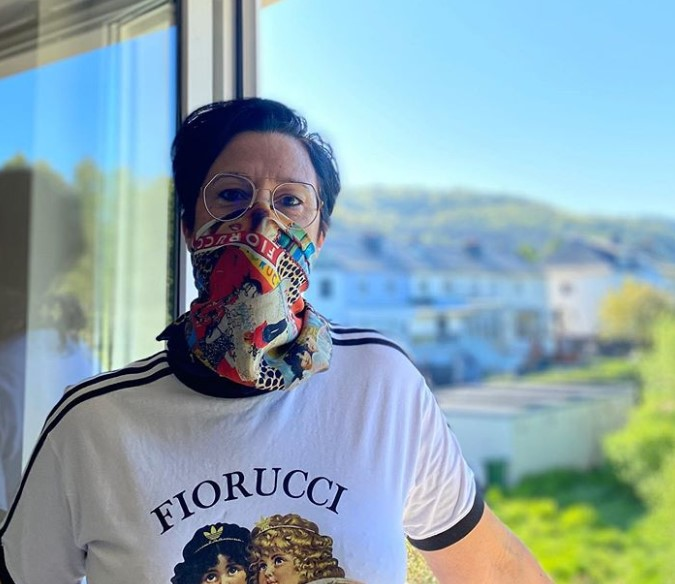face_with_mask: (179, 117, 332, 305)
